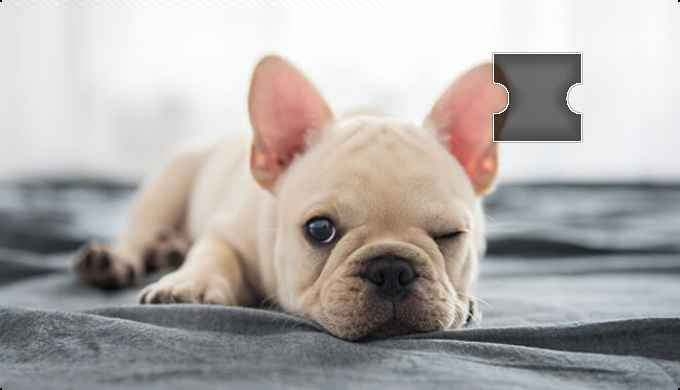gap: (492, 52, 583, 141)
